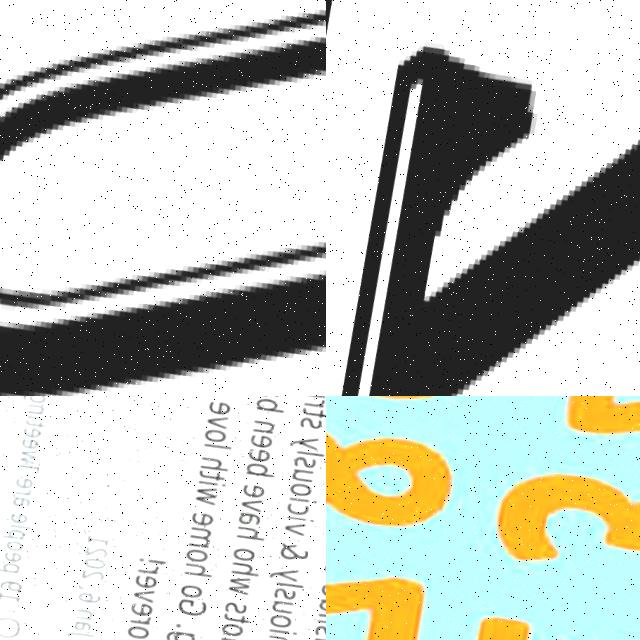0: (76, 558, 100, 575)
1: (79, 535, 106, 551), (0, 590, 14, 605)
2: (76, 545, 104, 564), (73, 570, 100, 588)
3: (476, 451, 640, 625)
4: (504, 396, 640, 489)
6: (70, 592, 95, 610)
7: (326, 525, 433, 640)
8: (326, 396, 457, 564)
9: (326, 396, 485, 429), (0, 577, 17, 595)
U: (0, 0, 326, 396)
Z: (326, 0, 640, 396)
